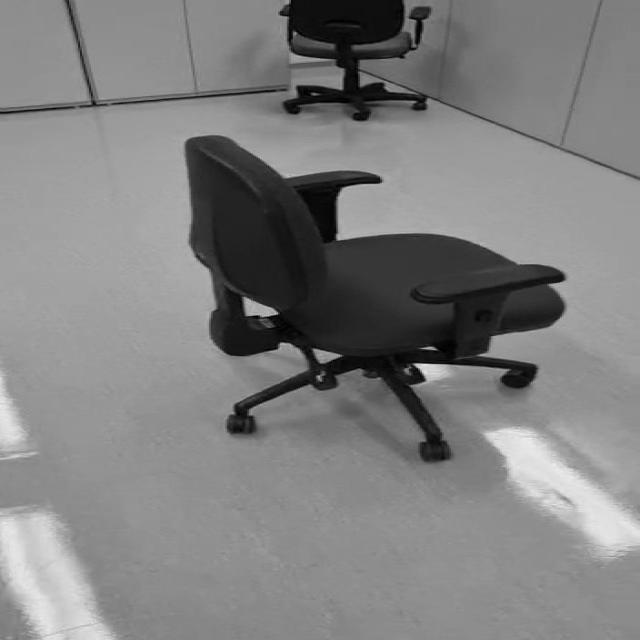cadeira-azul: (185, 136, 566, 462)
